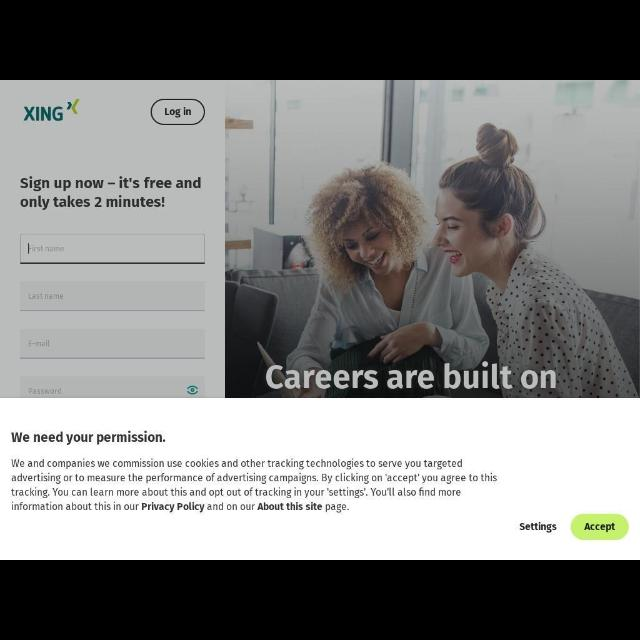backgroundimage: (224, 82, 636, 398)
icon: (184, 385, 200, 397)
iframe: (2, 400, 638, 556)
image: (24, 100, 82, 124)
input: (20, 234, 208, 266), (20, 328, 206, 359), (19, 282, 204, 312), (23, 372, 206, 402)
text: (9, 458, 497, 512), (266, 364, 556, 394), (19, 177, 204, 210), (11, 430, 165, 444), (520, 521, 558, 533), (27, 245, 64, 255), (27, 292, 63, 302), (164, 106, 192, 118), (584, 522, 614, 532), (28, 387, 62, 395), (26, 338, 49, 348)
textbutton: (572, 516, 628, 540), (152, 100, 206, 122)
